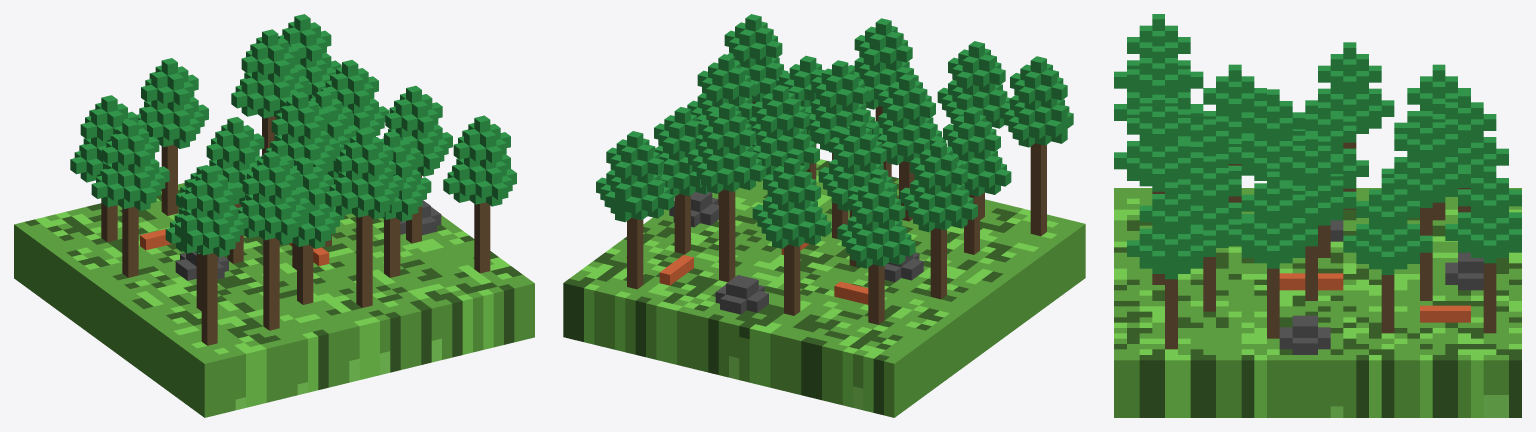
Rendered from Plaines Map-9.obj.
3 renders of one model, left to right at view 1: azimuth 30°, elevation 25°; view 2: azimuth 150°, elevation 25°; view 3: azimuth 270°, elevation 25°, orthographic. The views are drawn at different scales.
Size of the model in its own units: 3.2 by 2.1 by 3.2.
Materials: 1 (1 with a texture image).
